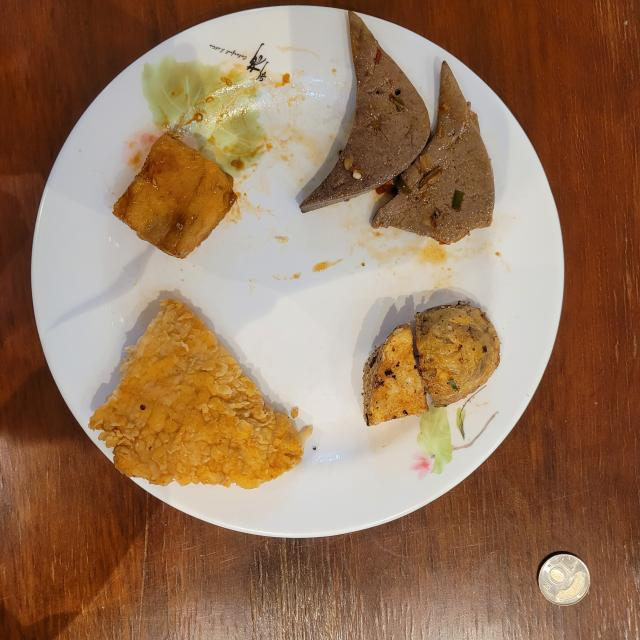coin: (539, 554, 590, 605)
creamy tofu: (114, 134, 236, 259)
fried chicken cutlet: (89, 299, 305, 489)
fried potato: (362, 301, 500, 426)
pig liver: (300, 11, 494, 244)
